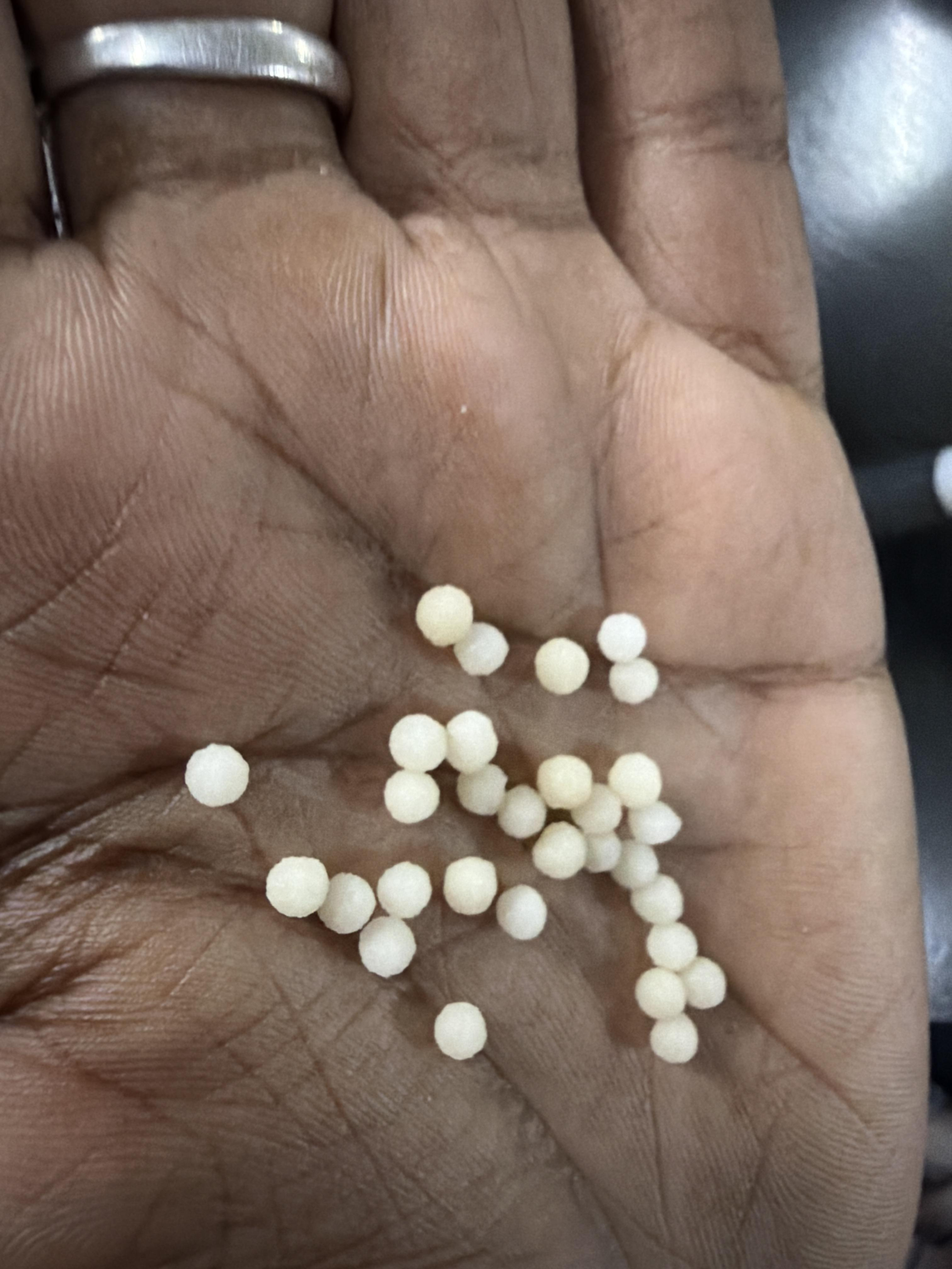pill: (184, 743, 249, 807), (266, 856, 329, 917), (358, 916, 416, 978), (318, 873, 376, 934), (416, 585, 473, 647), (389, 714, 446, 772), (446, 710, 498, 773), (443, 856, 498, 915), (535, 637, 590, 695), (377, 861, 432, 919), (536, 754, 592, 810), (531, 822, 586, 879), (434, 1002, 487, 1060), (384, 770, 439, 824), (454, 622, 509, 676), (608, 753, 661, 809), (496, 884, 547, 940), (634, 967, 686, 1019), (497, 785, 547, 839), (571, 783, 623, 834), (456, 763, 507, 815), (646, 922, 698, 972), (631, 874, 683, 924), (649, 1013, 698, 1064), (597, 612, 646, 663), (628, 801, 682, 846), (680, 957, 726, 1009), (611, 841, 659, 890), (609, 658, 659, 705), (585, 832, 622, 873)
